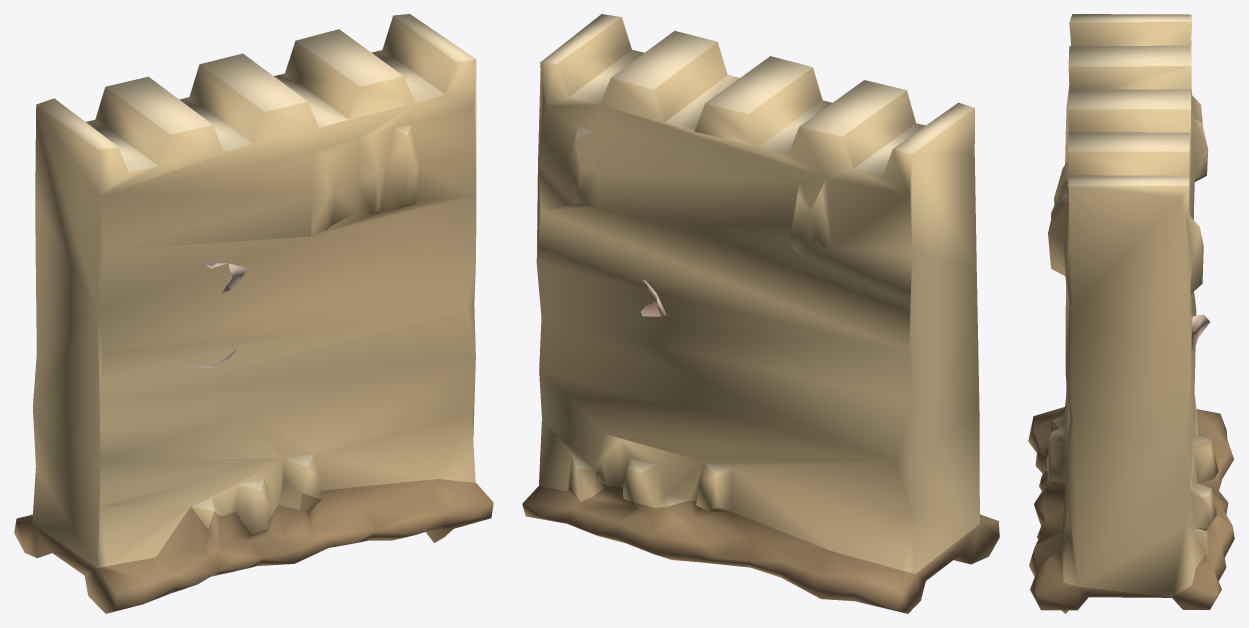
Rendered from shore_castle_wall_lod2.glb.
3 renders of one model, left to right at view 1: azimuth 30°, elevation 25°; view 2: azimuth 150°, elevation 25°; view 3: azimuth 270°, elevation 25°, orthographic. The views are drawn at different scales.
Parts seen in each view (by area): view 1: shore_castle_wall.001; view 2: shore_castle_wall.001; view 3: shore_castle_wall.001.
Part boxes in pixels (left/top/right/bottom): shore_castle_wall.001: left=14, top=14, right=493, bottom=613; shore_castle_wall.001: left=522, top=14, right=999, bottom=613; shore_castle_wall.001: left=1028, top=14, right=1234, bottom=613.
Size of the model in its own units: 9.96 by 11.75 by 4.95.
